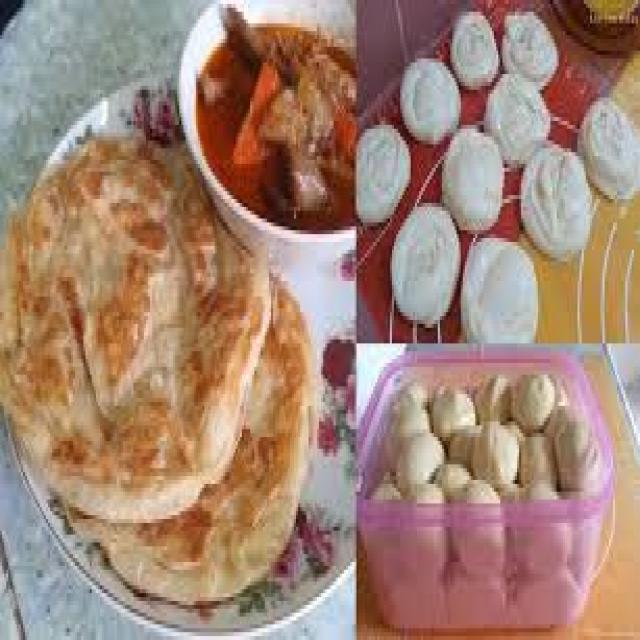Paratha: (83, 12, 352, 621), (26, 153, 281, 547)
